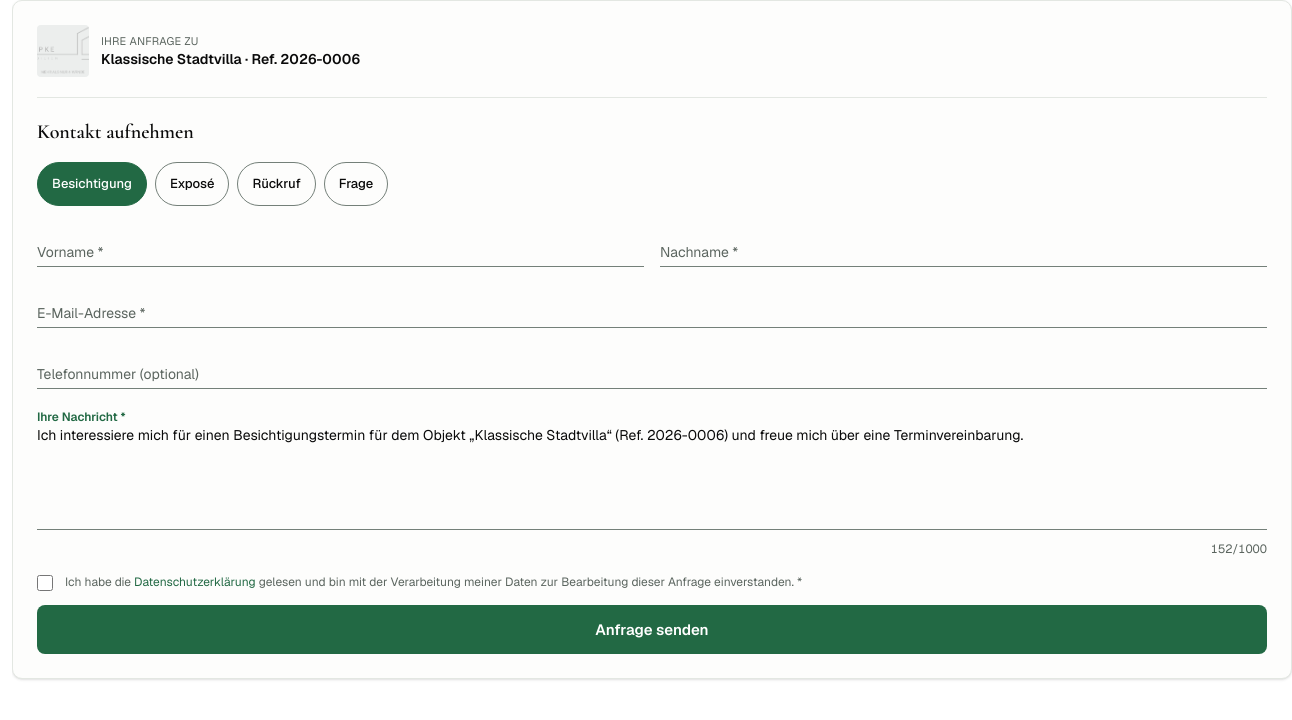
Test case: PropertyInquiryPanel › submits the inquiry with the property as source page
Type "Anna" into the field labelled "Vorname *" at (340, 246), box [37,226,644,267]
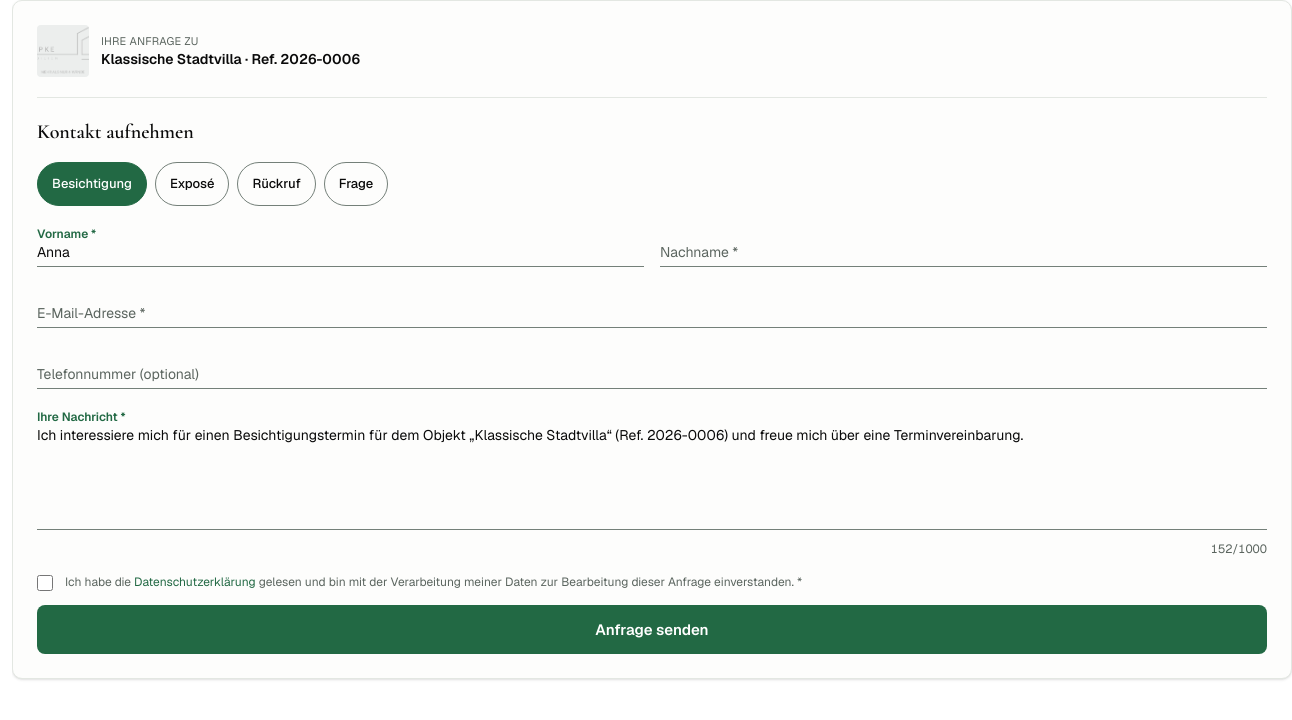
Type "Muster" into the field labelled "Nachname *" at (964, 246), box [660,226,1267,267]
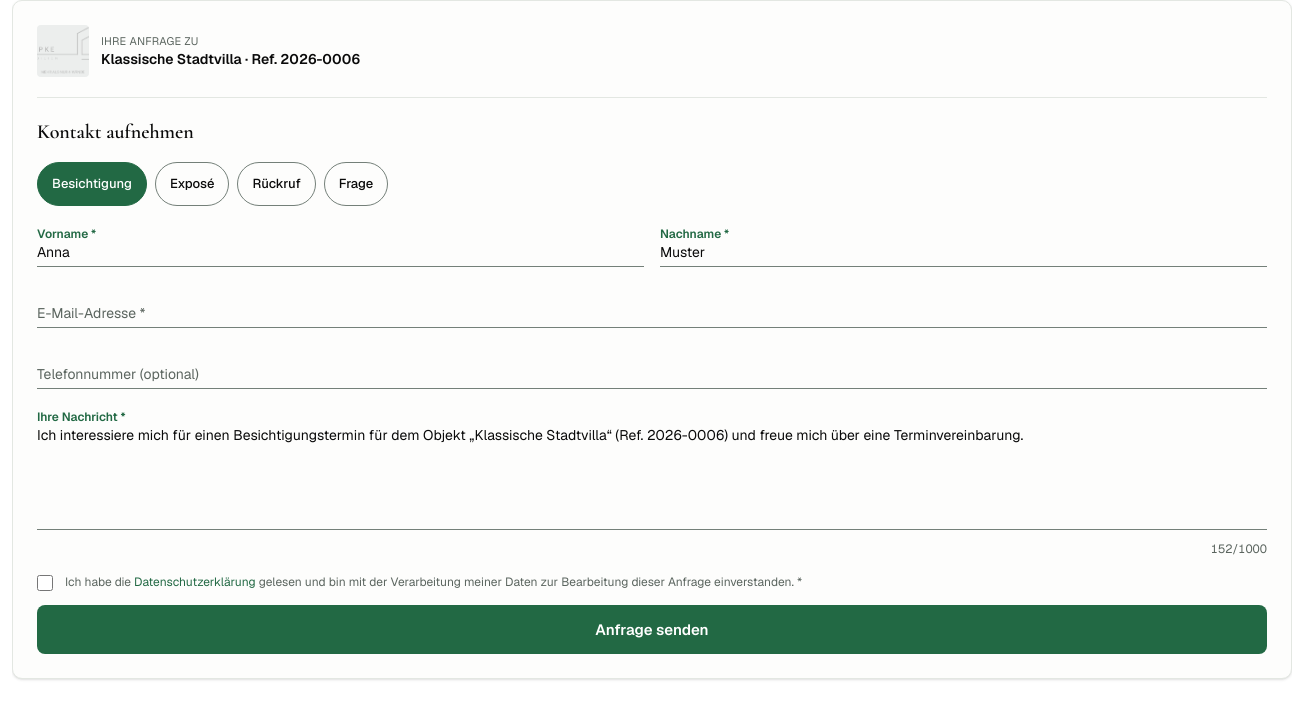
Type "anna@example.com" into the field labelled "E-Mail-Adresse *" at (652, 308), box [37,287,1267,328]
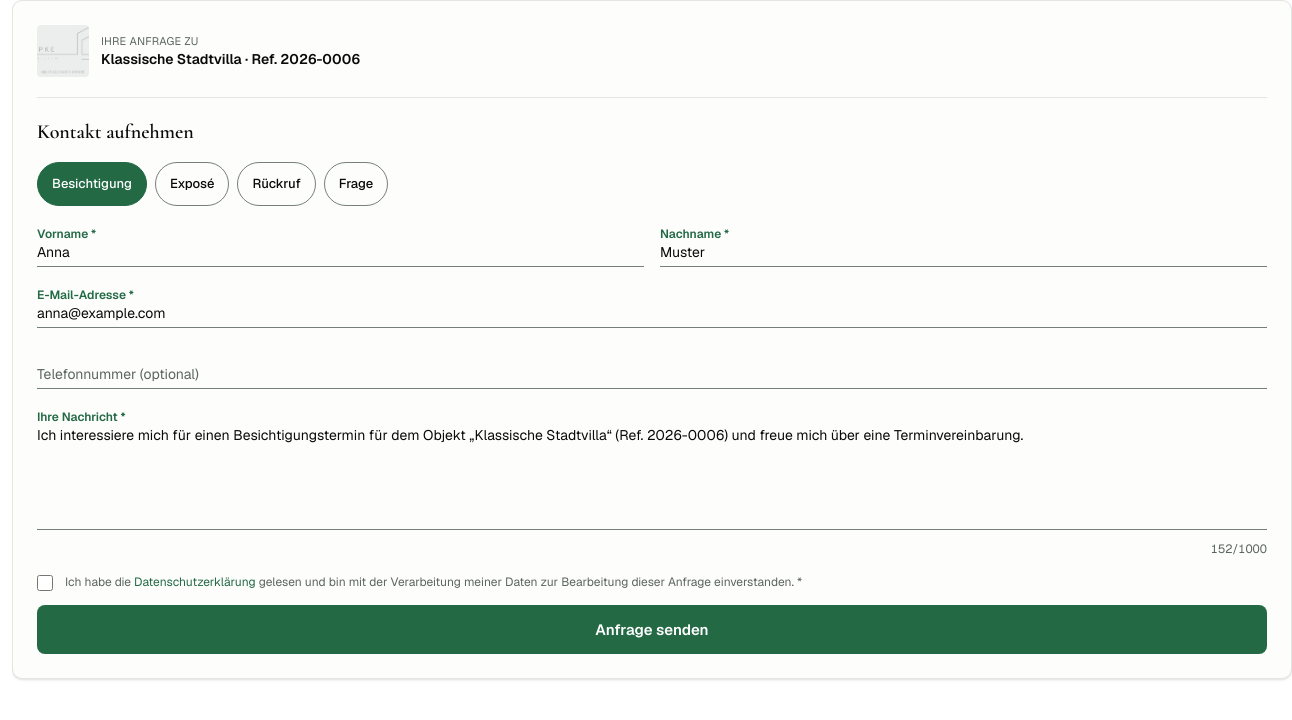
Type "+49123456789" into the field labelled "Telefonnummer (optional)" at (652, 368), box [37,348,1267,389]
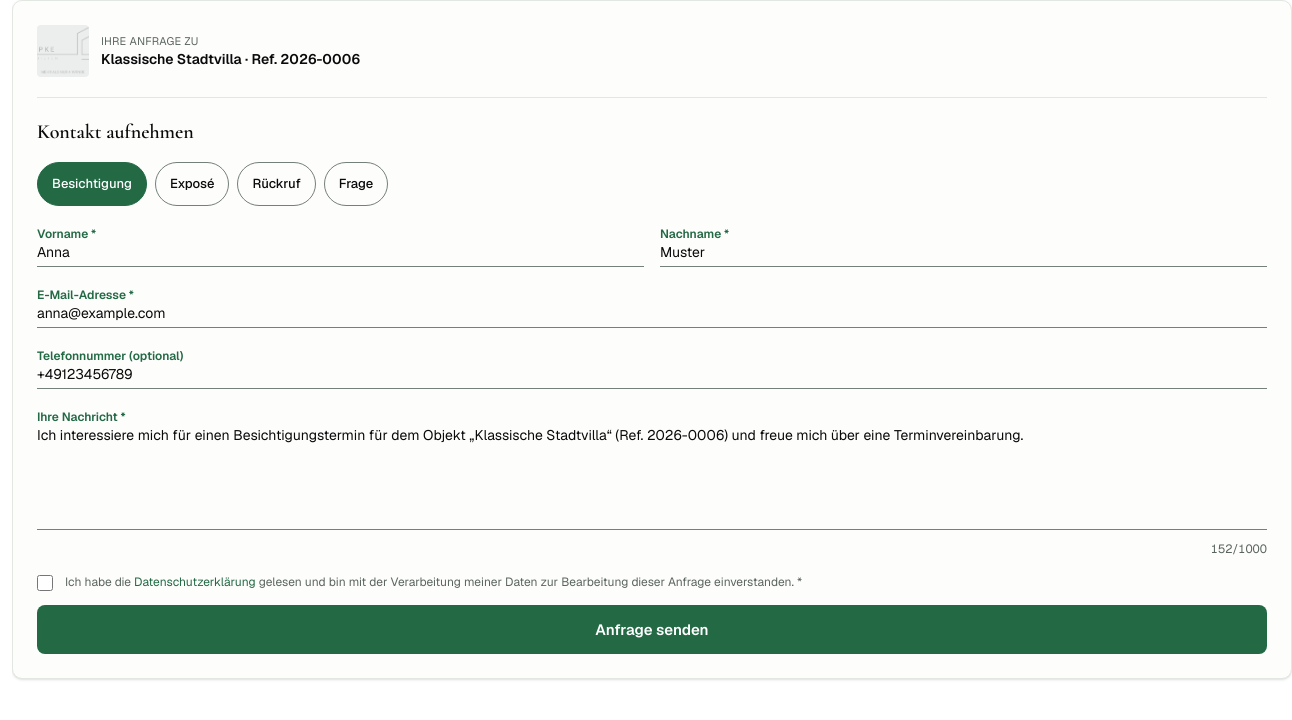
Click the checkbox labelled "Datenschutzerklärung" at (45, 583), box [37,575,53,591]
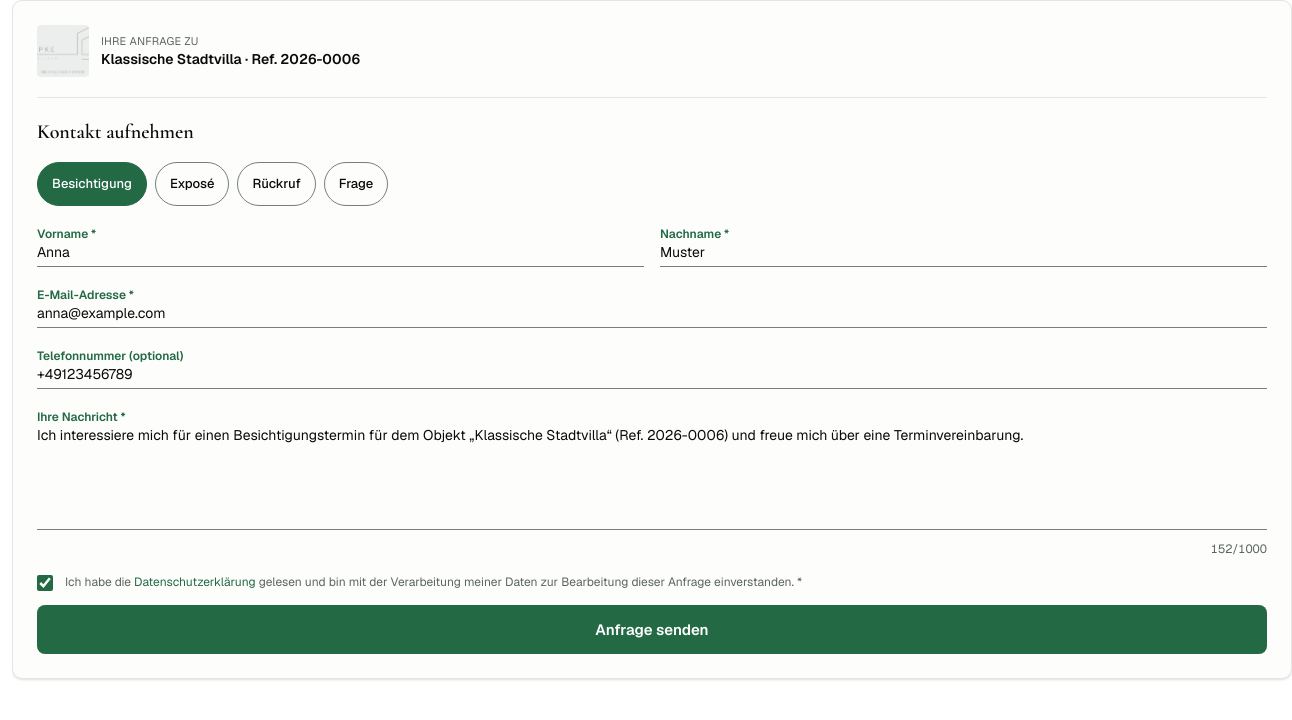
Click the button "Anfrage senden" at (652, 629), box [37,604,1267,654]
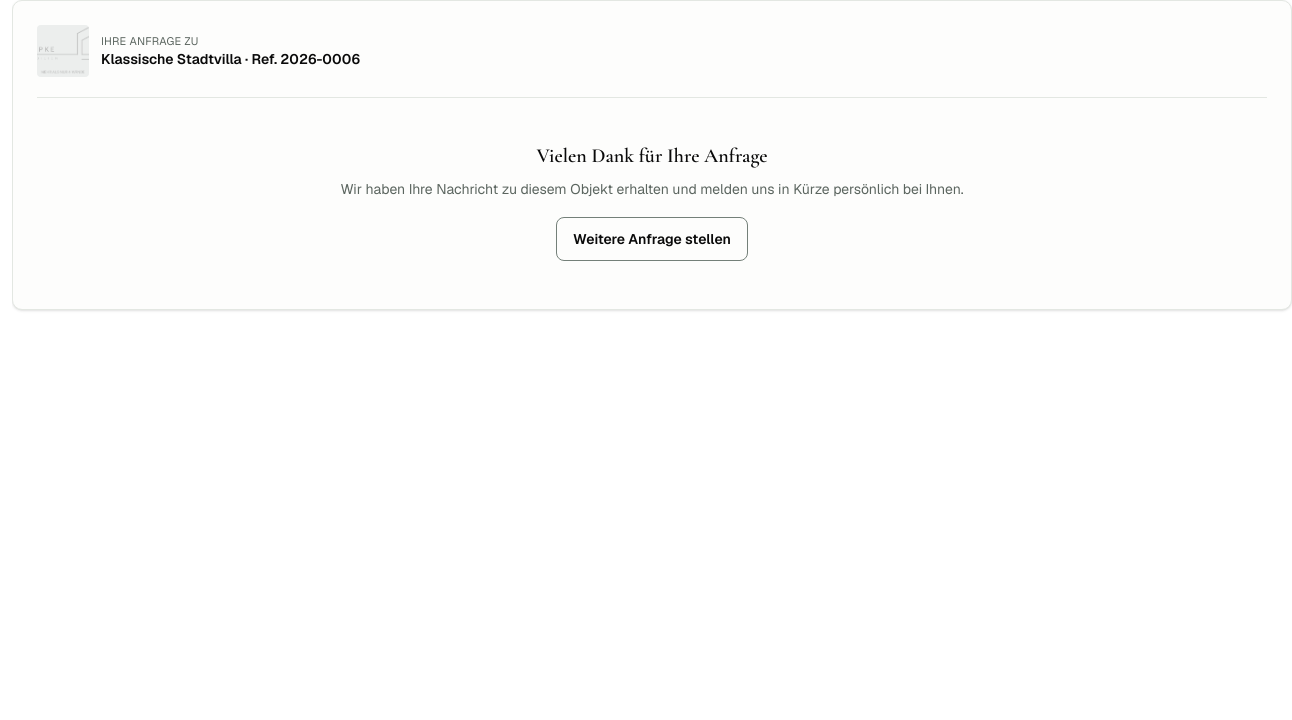
Check: the text "Vielen Dank für Ihre Anfrage" is shown, box [536,144,768,168]
